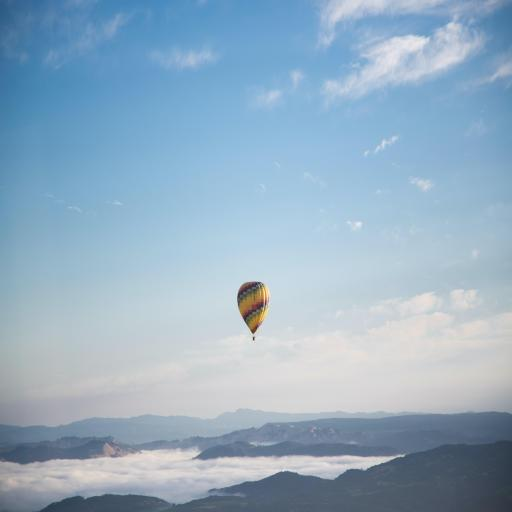hot air ballon: (237, 281, 270, 341)
